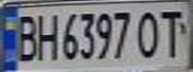3: (75, 8, 96, 61)
6: (57, 9, 81, 62)
7: (112, 7, 136, 60)
9: (93, 8, 115, 61)
B: (9, 10, 42, 62)
H: (33, 9, 60, 61)
O: (133, 7, 163, 60)
T: (154, 6, 190, 58)
